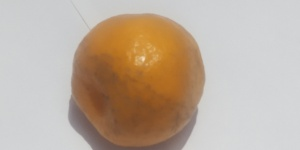BAD: (70, 13, 207, 150)
